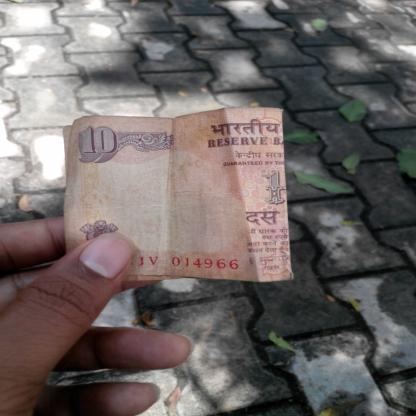Old10Front: (61, 107, 296, 284)
